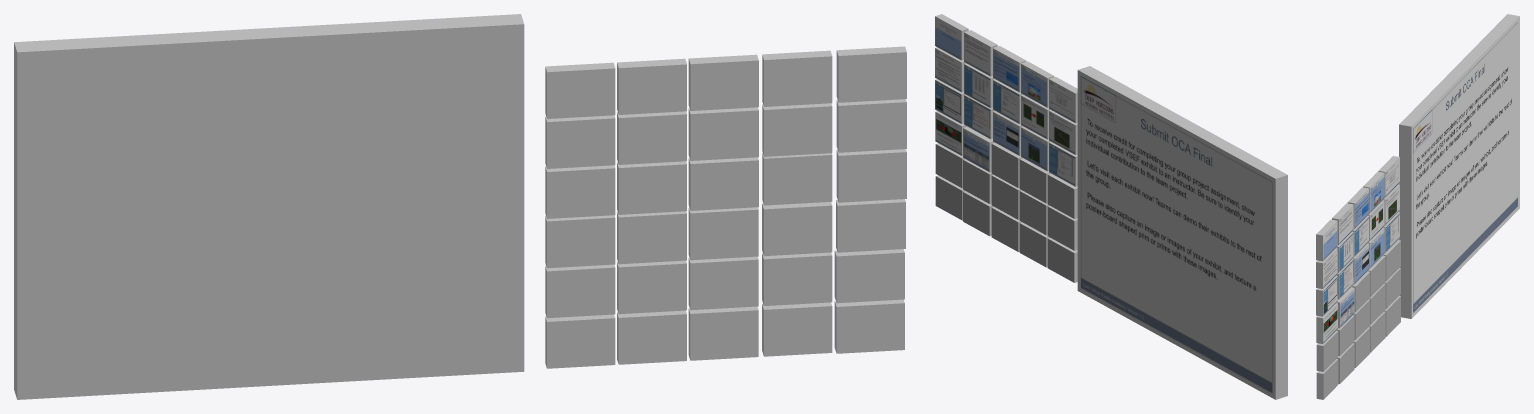
File: VRA_Lecture5_V1_117-098-023__2c7ef206-75c4-4812-8527-345e806a6d42.dae
The picture shows the model from 3 angles, left to right: view 1: azimuth 30°, elevation 25°; view 2: azimuth 150°, elevation 25°; view 3: azimuth 270°, elevation 25°; orthographic projection. The views are drawn at different scales.
Parts seen in each view (by area): view 1: VRA_Lecture5_V1, Slideshow (×30); view 2: VRA_Lecture5_V1, Slideshow (×30); view 3: VRA_Lecture5_V1, Slideshow (×30).
Boxes of the visible parts, x1,y1,x2,y2 form: VRA_Lecture5_V1: [14, 14, 524, 399]; Slideshow (×30): [545, 46, 906, 368]; VRA_Lecture5_V1: [1077, 66, 1287, 399]; Slideshow (×30): [935, 14, 1077, 282]; VRA_Lecture5_V1: [1399, 14, 1519, 318]; Slideshow (×30): [1316, 156, 1400, 399].
Bounding box in the file's own units: 7.41 × 3.27 × 3.41.
